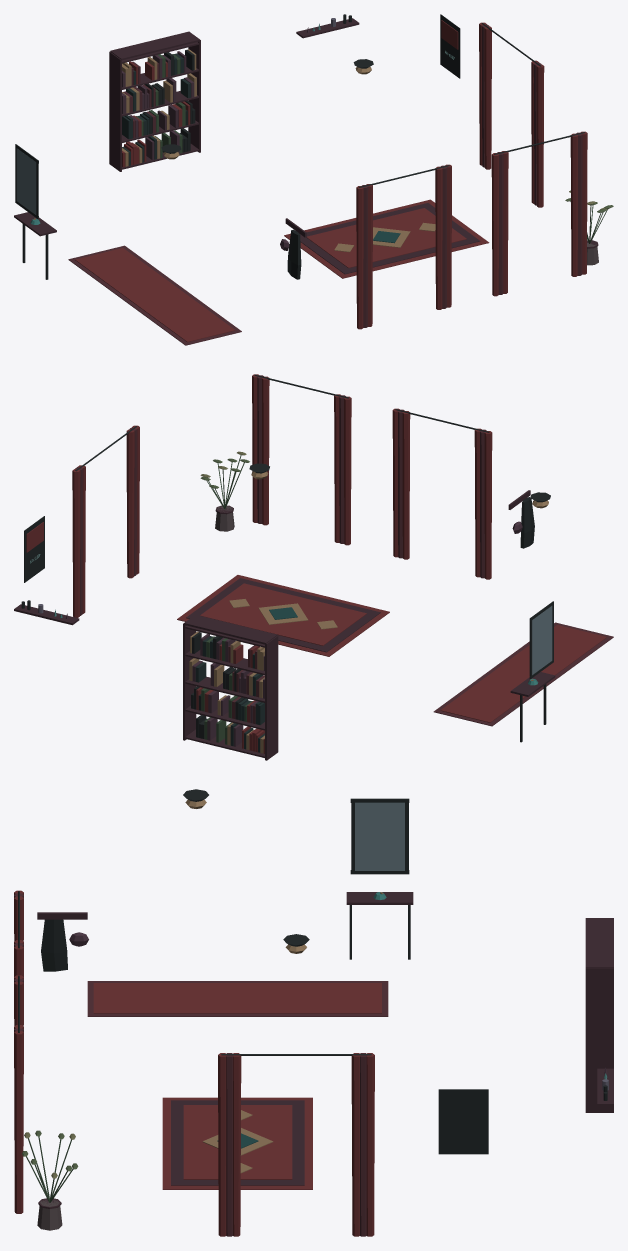
File: decor_living.glb
The picture shows the model from 3 angles, top to bottom: view 1: azimuth 30°, elevation 25°; view 2: azimuth 150°, elevation 25°; view 3: azimuth 270°, elevation 25°; orthographic projection. The views are drawn at different scales.
Parts seen in each view (by area): view 1: Decor; view 2: Decor; view 3: Decor.
Part boxes in pixels (x1=…): Decor: x1=14, y1=14, x2=613, y2=345; Decor: x1=14, y1=374, x2=613, y2=760; Decor: x1=14, y1=789, x2=613, y2=1236.
Size of the model in its own units: 8.09 by 2.7 by 7.18.
